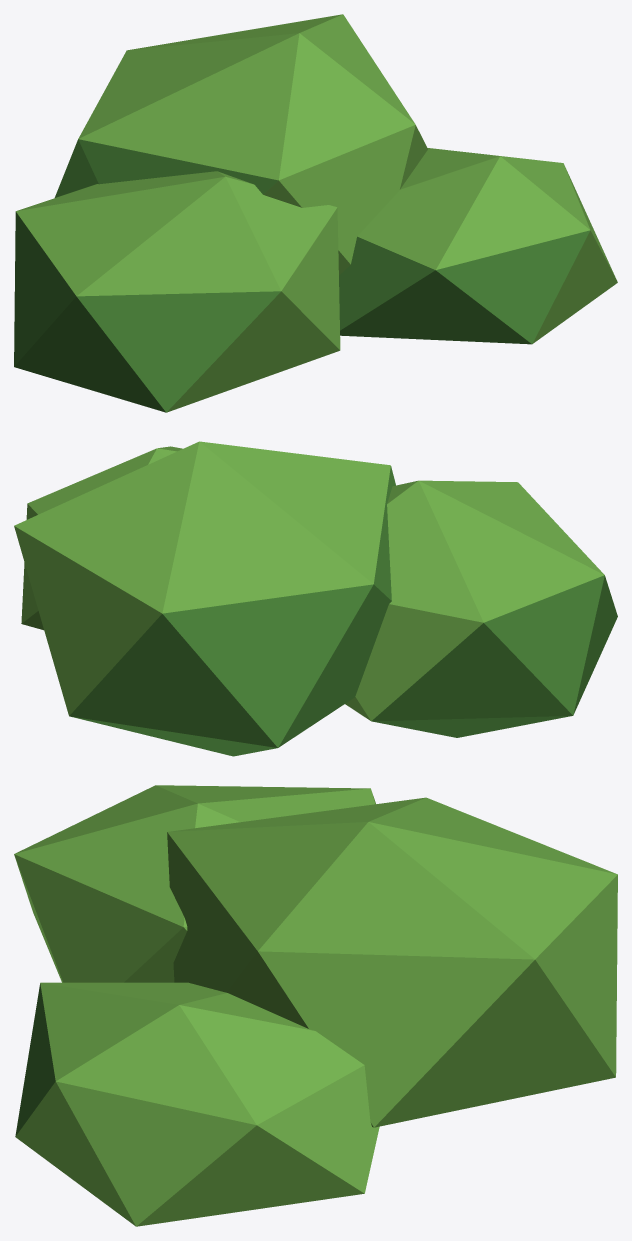
File: BE_Nature_BushB.fbx
The picture shows the model from 3 angles, top to bottom: view 1: azimuth 30°, elevation 25°; view 2: azimuth 150°, elevation 25°; view 3: azimuth 270°, elevation 25°; orthographic projection. The views are drawn at different scales.
Parts seen in each view (by area): view 1: BE_Nature_BushB_Base_6FAE4A, BE_Nature_BushB_Shade_4C8A3A; view 2: BE_Nature_BushB_Base_6FAE4A, BE_Nature_BushB_Shade_4C8A3A; view 3: BE_Nature_BushB_Base_6FAE4A, BE_Nature_BushB_Shade_4C8A3A.
Part boxes in pixels (<box>): BE_Nature_BushB_Base_6FAE4A: <box>16,14,617,412</box>; BE_Nature_BushB_Shade_4C8A3A: <box>14,139,590,412</box>; BE_Nature_BushB_Base_6FAE4A: <box>14,441,604,720</box>; BE_Nature_BushB_Shade_4C8A3A: <box>69,466,617,756</box>; BE_Nature_BushB_Base_6FAE4A: <box>14,785,617,1226</box>; BE_Nature_BushB_Shade_4C8A3A: <box>15,983,55,1136</box>.
Size of the model in its own units: 5 by 4 by 2.4.
